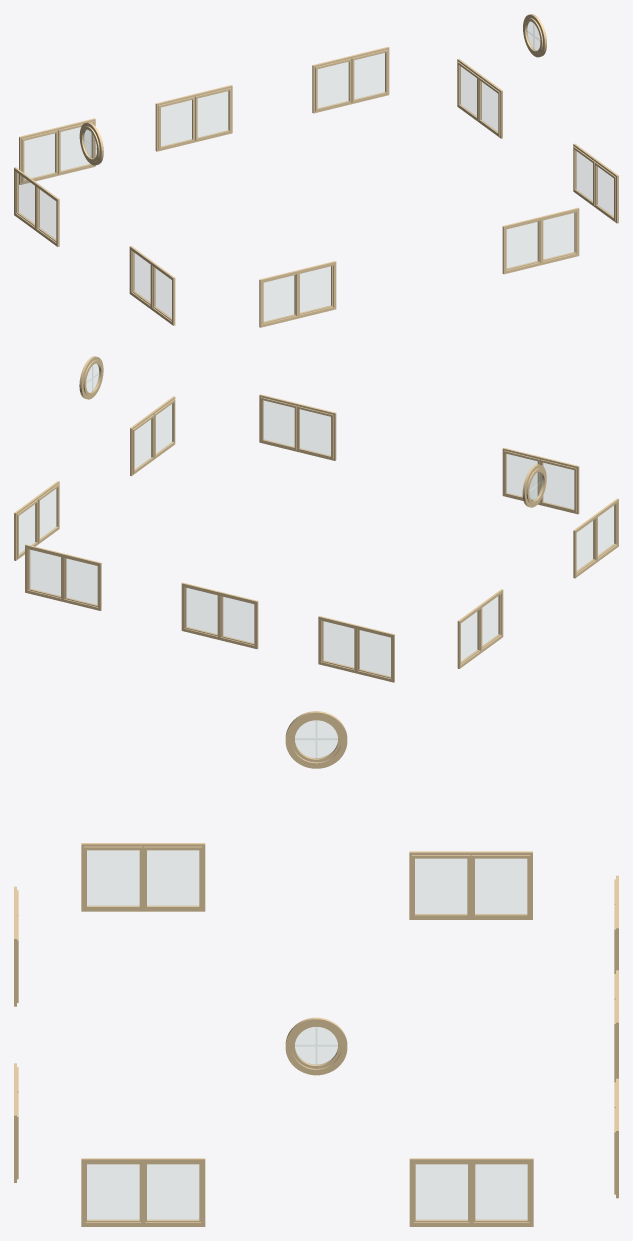
Rendered from model-part.gltf_windows_allFloors.gltf.
3 views of the same model, one above another, from view 1: azimuth 30°, elevation 25°; view 2: azimuth 150°, elevation 25°; view 3: azimuth 270°, elevation 25° (orthographic). The views are drawn at different scales.
Size of the model in its own units: 11.79 by 3.7 by 9.76.
